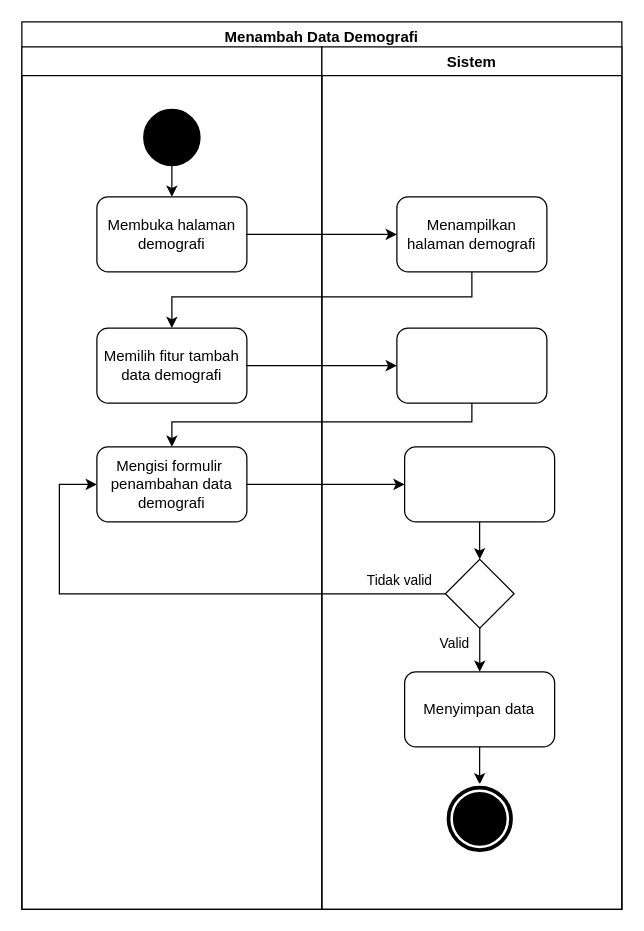
This 644x931 diagram has some shape labels left out. Each missing label, with the box of its shape:
Melakukan validasi data: (403, 446, 555, 522)
Member: (21, 46, 322, 909)
Menampilkan dialog penambahan data demografi: (396, 327, 547, 403)
